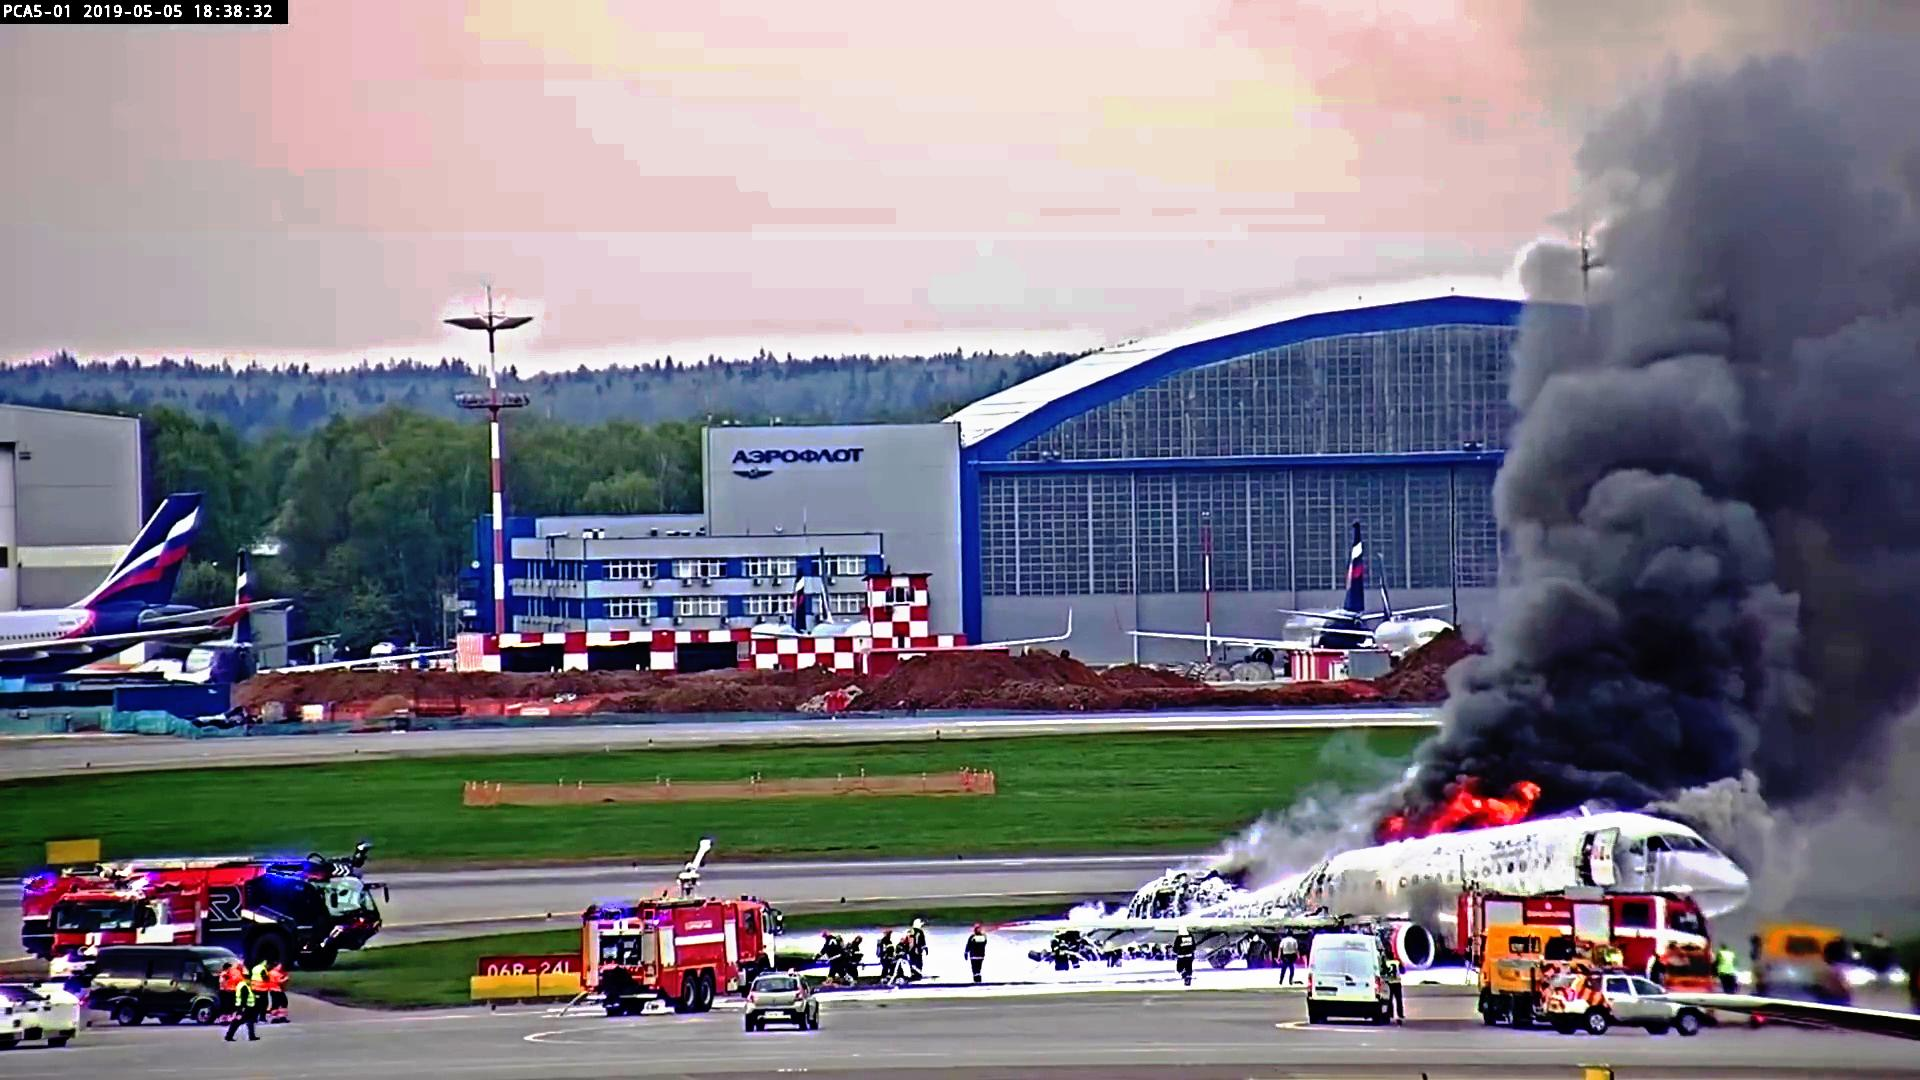fire: (1395, 786, 1532, 848)
smoke: (1531, 33, 1920, 736)
